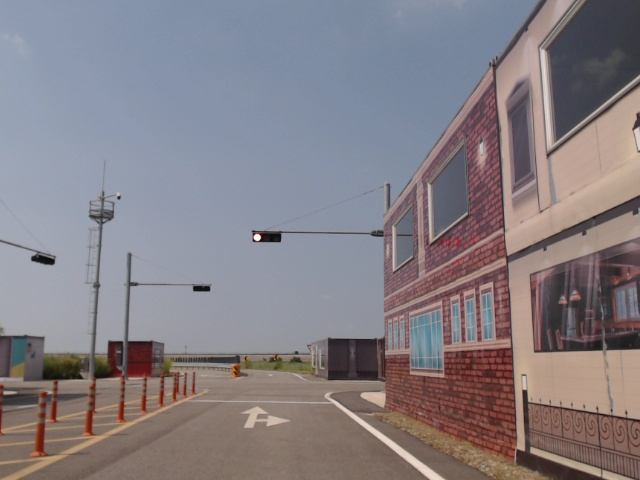red_3: (253, 232, 281, 243)
